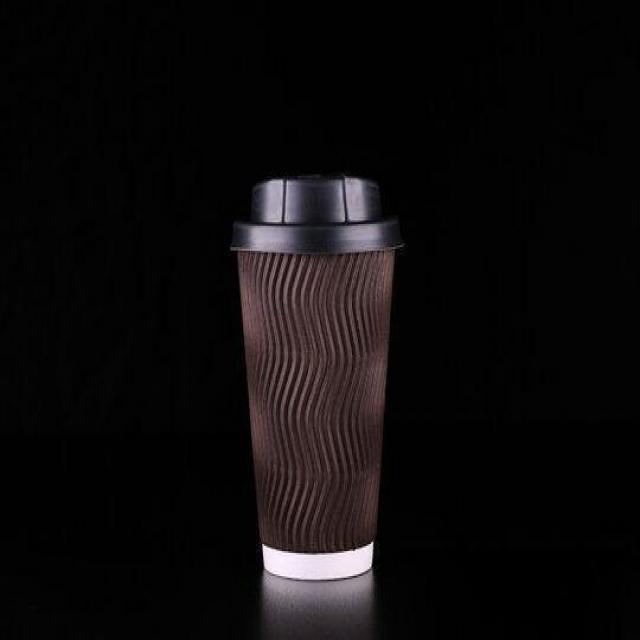cup-disposable: (229, 167, 404, 585)
